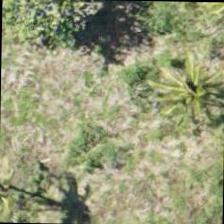Kelapa_Sawit: (152, 8, 223, 100)
